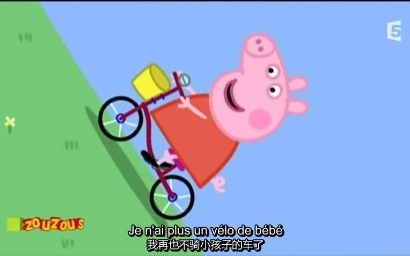Peppa: (148, 35, 309, 194)
